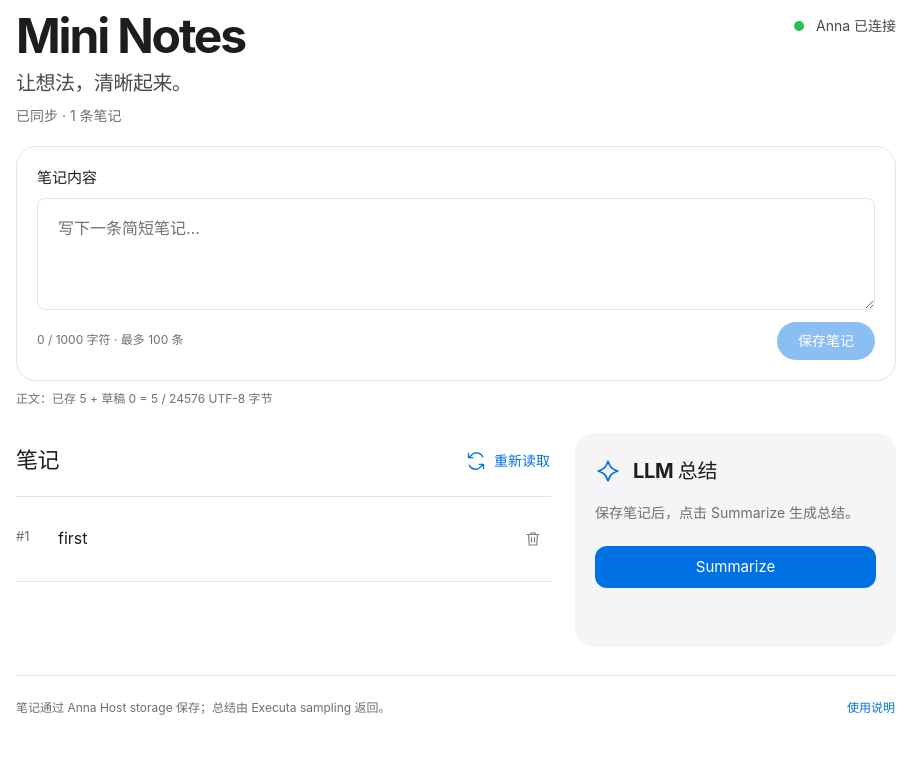
Scenario: Mini Notes application › shows tool failures and renders sampling text as text without generating a fallback
This screenshot has width=913, height=765.
Expected: the button "重新读取" is enabled, top-left (457, 442), bottom-right (551, 478)
Click the button "Summarize". click: (736, 566)
box: top-left (595, 546), bottom-right (876, 588)
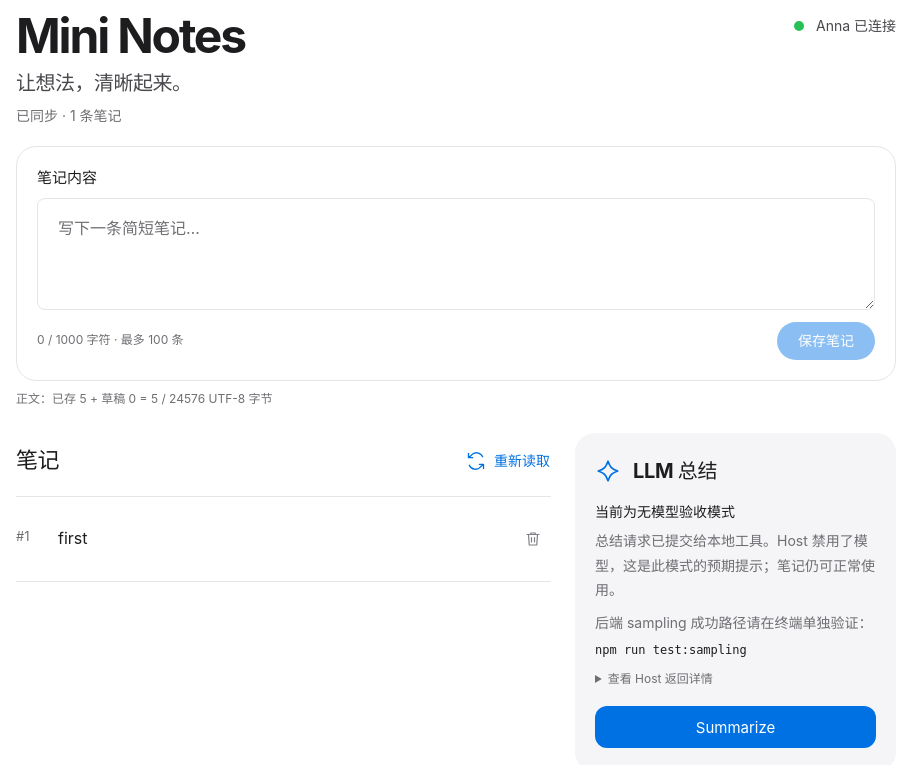
Expected: the element with test id "no-llm-notice" shows "npm run test:sampling", top-left (595, 643), bottom-right (747, 657)
Click the button "Summarize". click: (736, 727)
box: top-left (595, 706), bottom-right (876, 748)
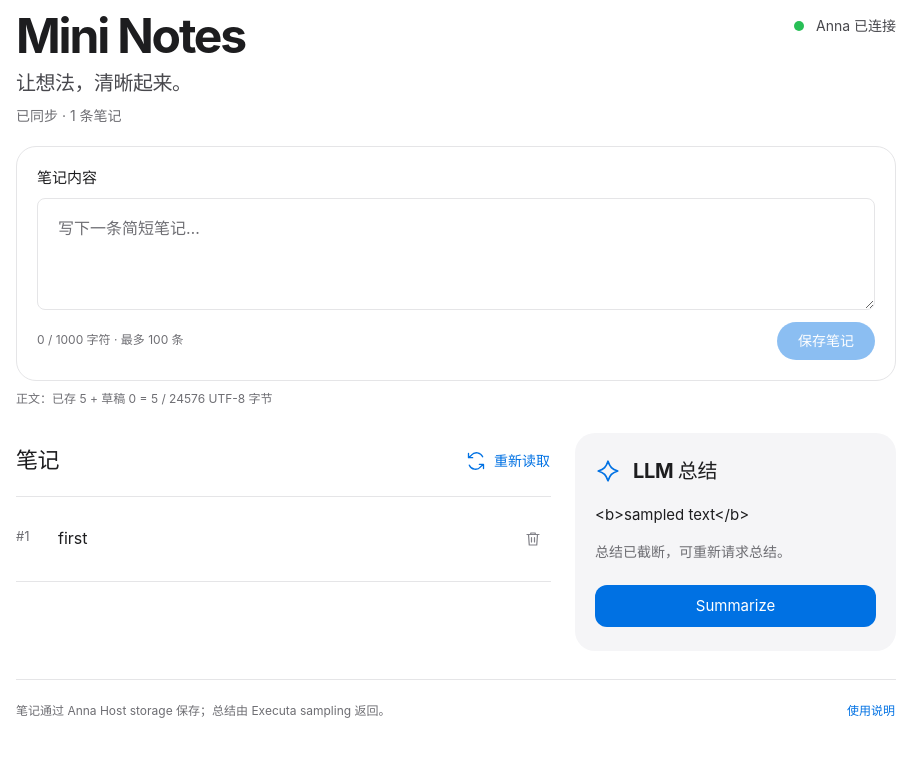
Expected: the text with test id "summary-text" reads "<b>sampled text</b>", top-left (595, 505), bottom-right (749, 524)
Expected: the text "总结已截断，可重新请求总结。" is shown, top-left (595, 543), bottom-right (791, 560)
